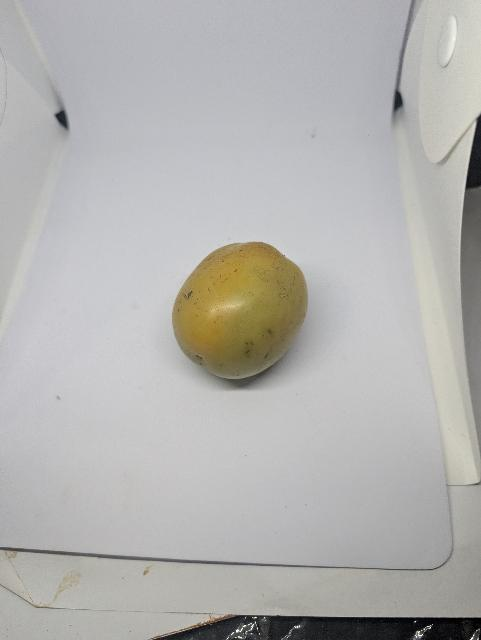turning: (170, 239, 313, 386)
